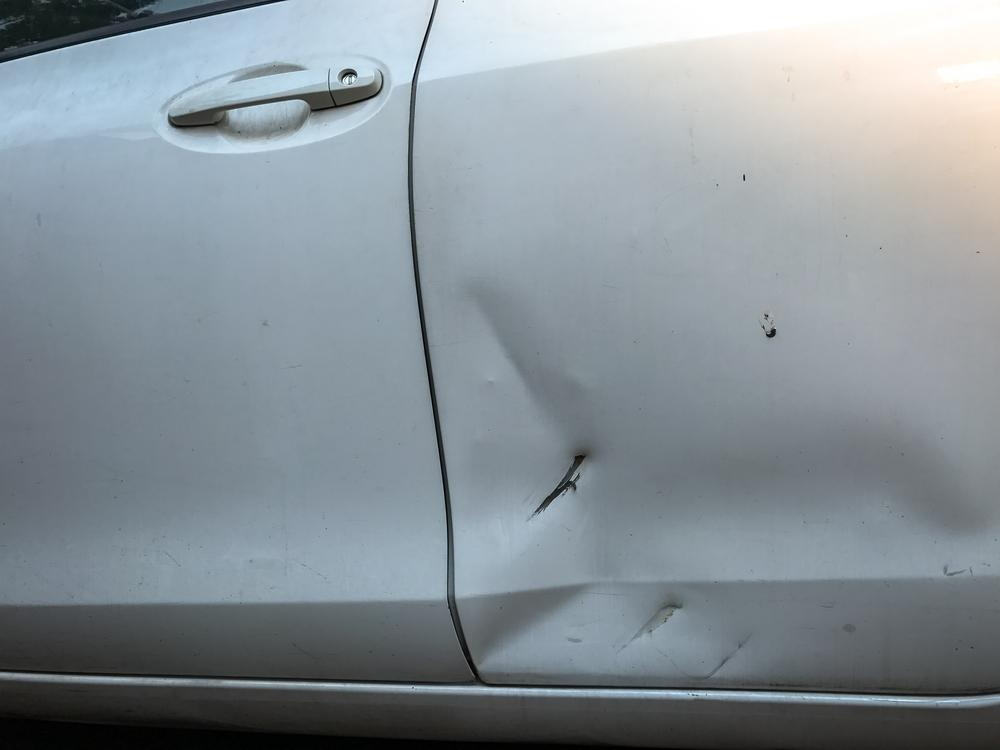dent: (445, 284, 1000, 680)
